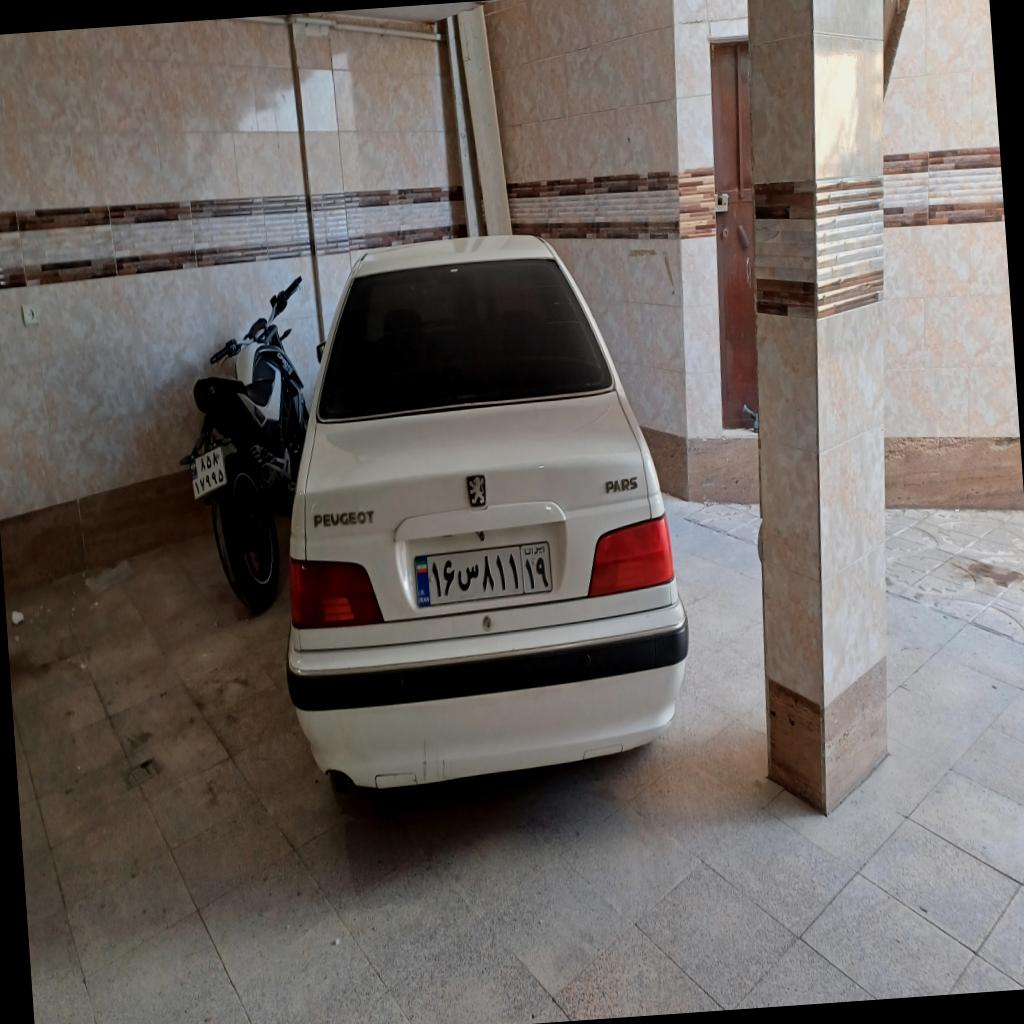Plates: (412, 538, 556, 609)
